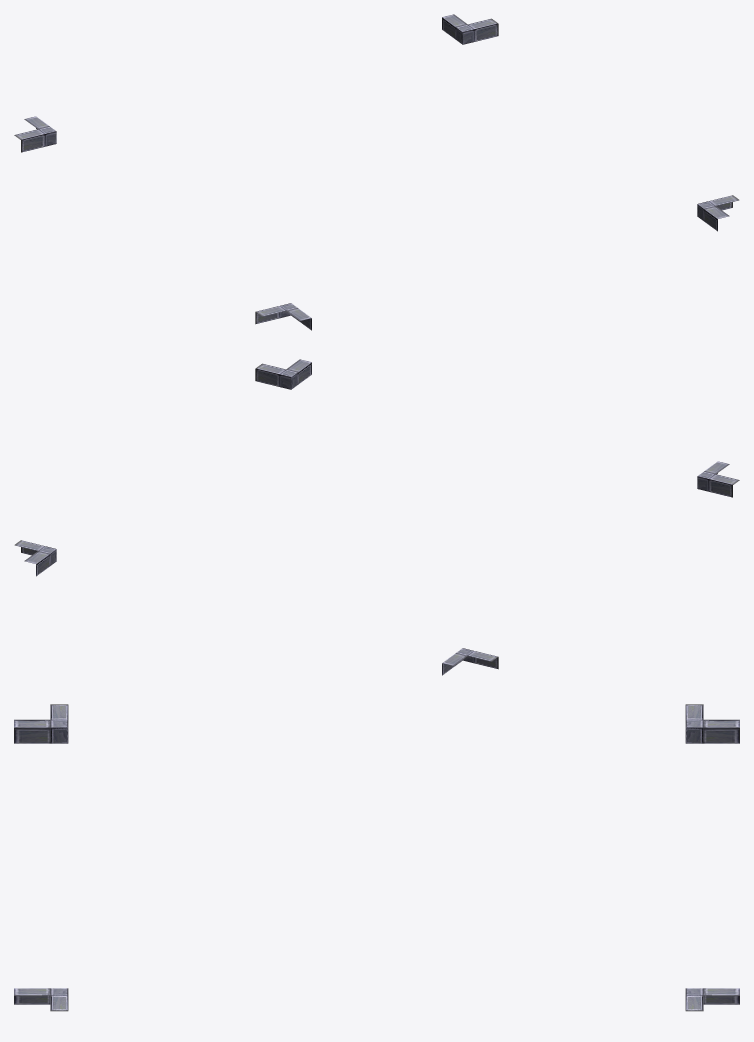
The model's file is Dungeon_plith_corner4.FBX.
The picture shows the model from 3 angles, top to bottom: view 1: azimuth 30°, elevation 25°; view 2: azimuth 150°, elevation 25°; view 3: azimuth 270°, elevation 25°; orthographic projection. The views are drawn at different scales.
Visible parts, largest first — view 1: Object023; view 2: Object023; view 3: Object023.
Part boxes in pixels (<box>): Object023: <box>14,14,739,330</box>; Object023: <box>14,359,739,675</box>; Object023: <box>14,704,739,1011</box>.
Bounding box in the file's own units: 1000 × 25 × 1000.
1 material, 1 textured.
